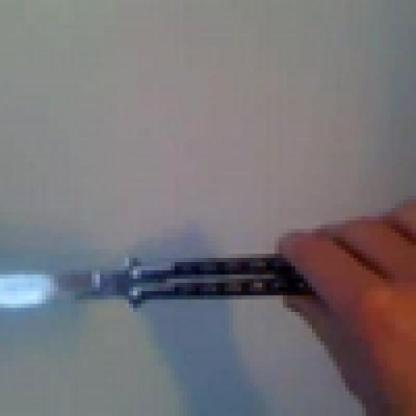Knife: (0, 233, 358, 353)
